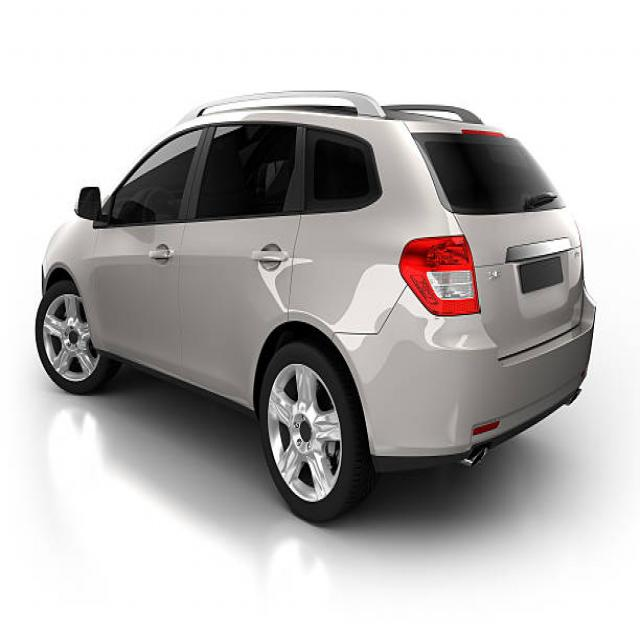yolov7-seg-car: (35, 91, 597, 524)
